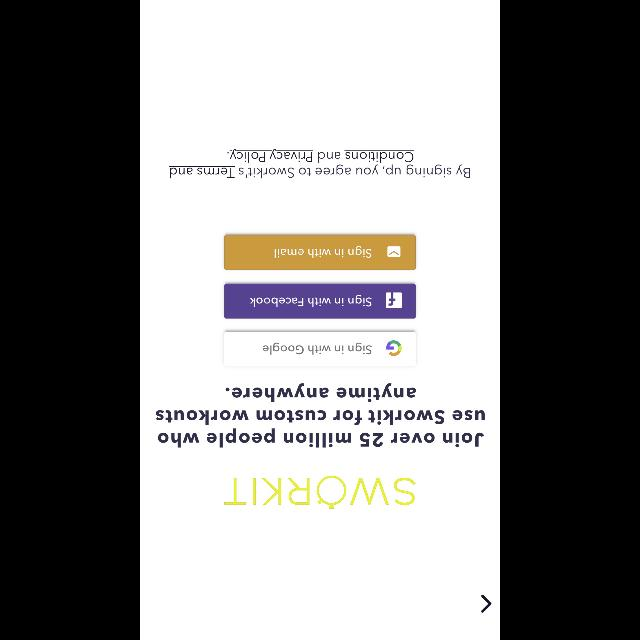icon: (481, 594, 492, 612)
image: (224, 475, 416, 509)
text: (156, 382, 484, 448), (168, 148, 470, 178)
textbutton: (224, 234, 416, 270), (224, 332, 416, 366), (224, 284, 416, 318)
